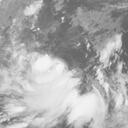cyclone: (30, 56, 83, 105)
